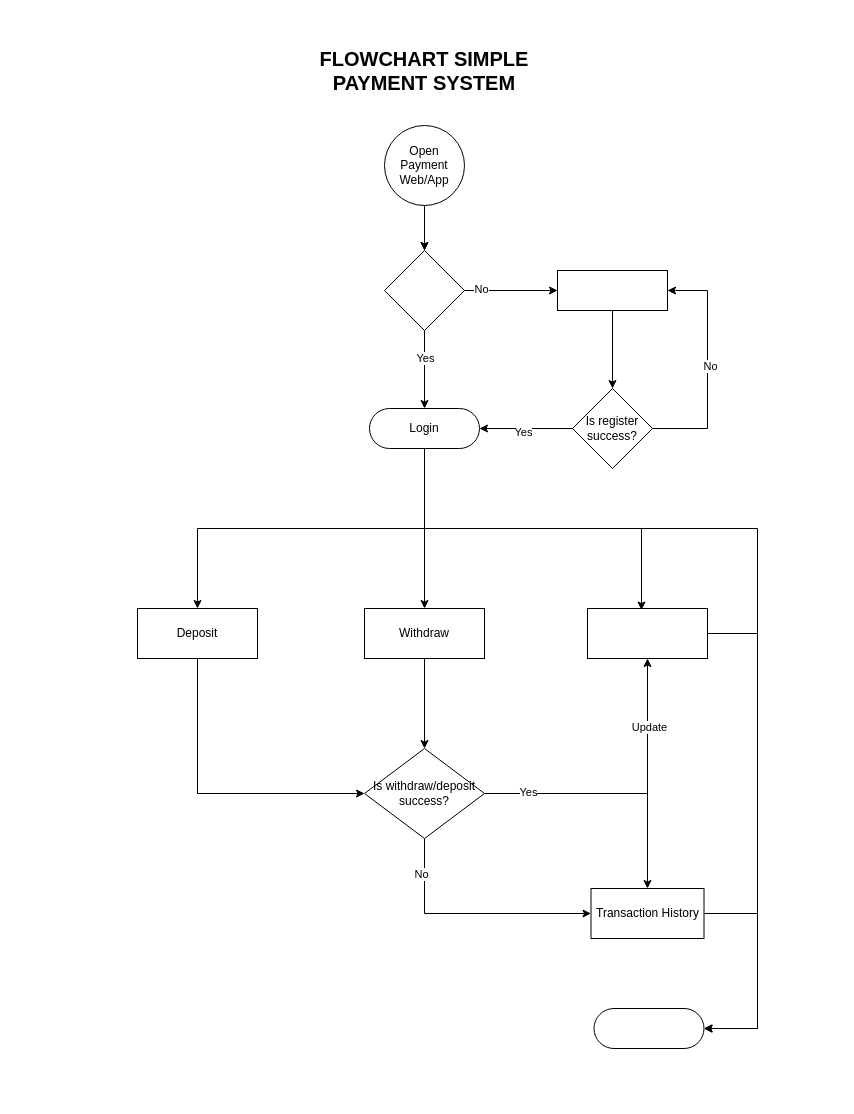
The diagram is 854 pixels wide and 1114 high, and some of its shapes have lost their labels. The centre of each missing label's shape, as x and y in pixels:
Have an account?: the point at 424,290
Logout: the point at 648,1028
Register Account: the point at 612,290
Total Amount: the point at 647,633
